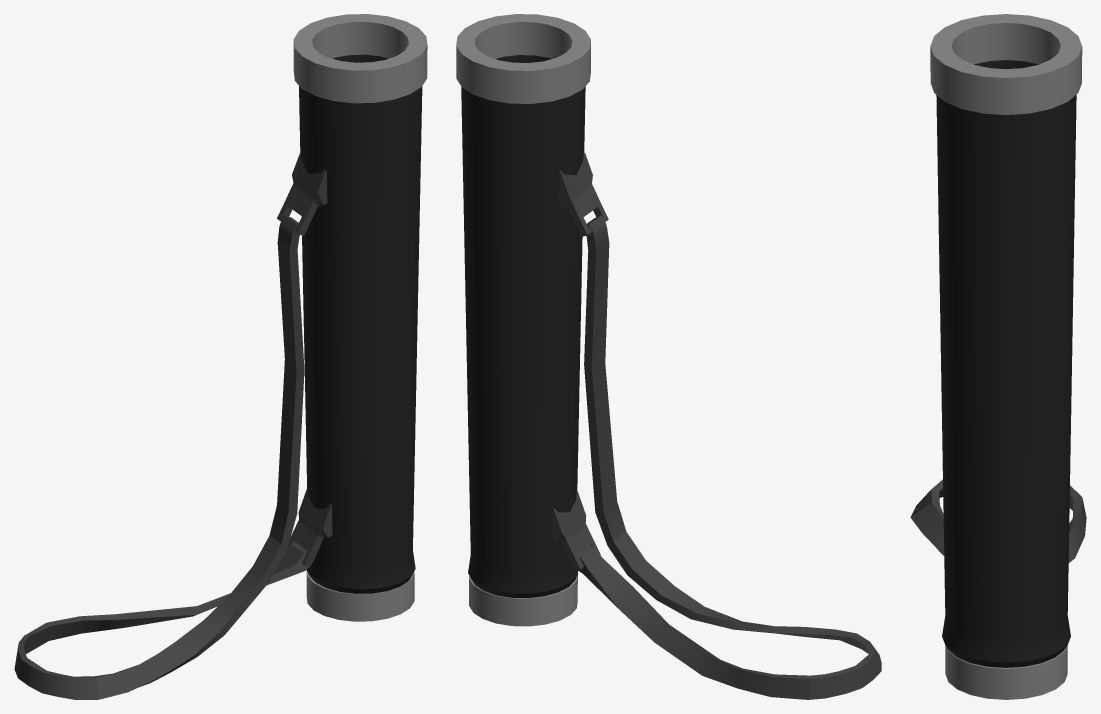
File: Quiver.fbx
The picture shows the model from 3 angles, left to right: view 1: azimuth 30°, elevation 25°; view 2: azimuth 150°, elevation 25°; view 3: azimuth 270°, elevation 25°; orthographic projection. The views are drawn at different scales.
Visible parts, largest first — view 1: quiver_low; view 2: quiver_low; view 3: quiver_low.
Boxes of the visible parts, bbox=[...] form: quiver_low: bbox=[14, 14, 427, 699]; quiver_low: bbox=[456, 14, 881, 699]; quiver_low: bbox=[910, 14, 1086, 699].
Bounding box in the file's own units: 5159 × 6903 × 1755.
Materials: 3 (3 with a texture image).
